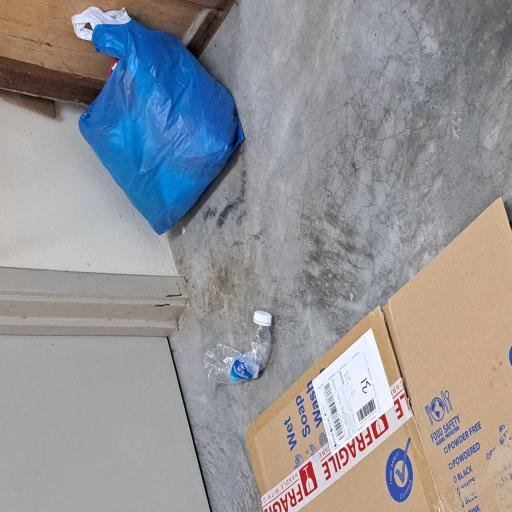cardboard: (0, 325, 236, 512)
plastic bag: (208, 104, 370, 328)
plastic bottle: (96, 272, 141, 362)
plastic bottle cap: (140, 338, 152, 362)
